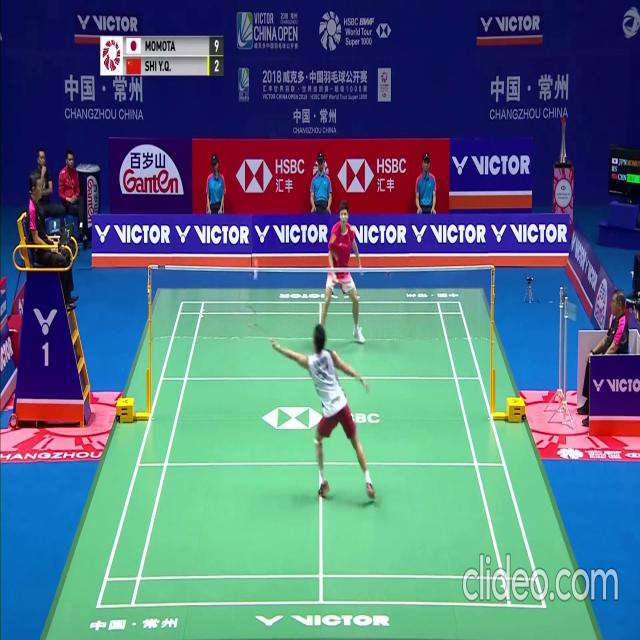Shuttlecock: (253, 262, 258, 269)
